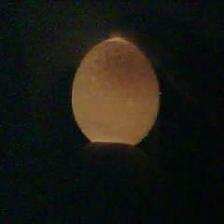infertile: (70, 34, 163, 148)
